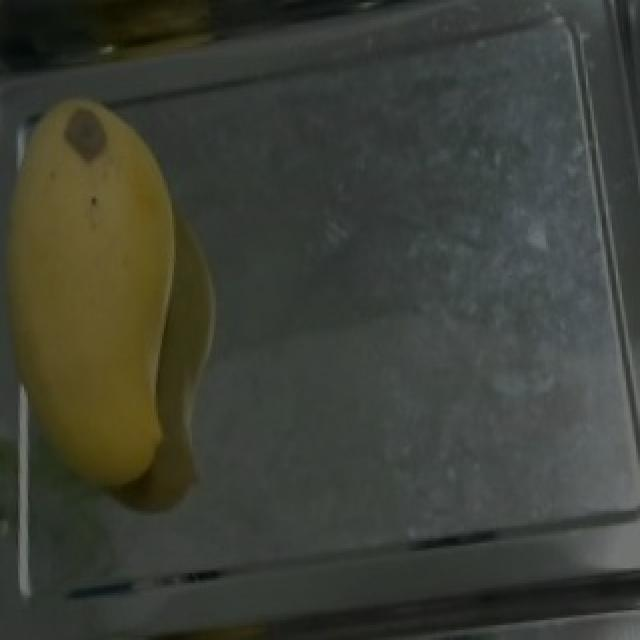fruit: (0, 77, 248, 444)
